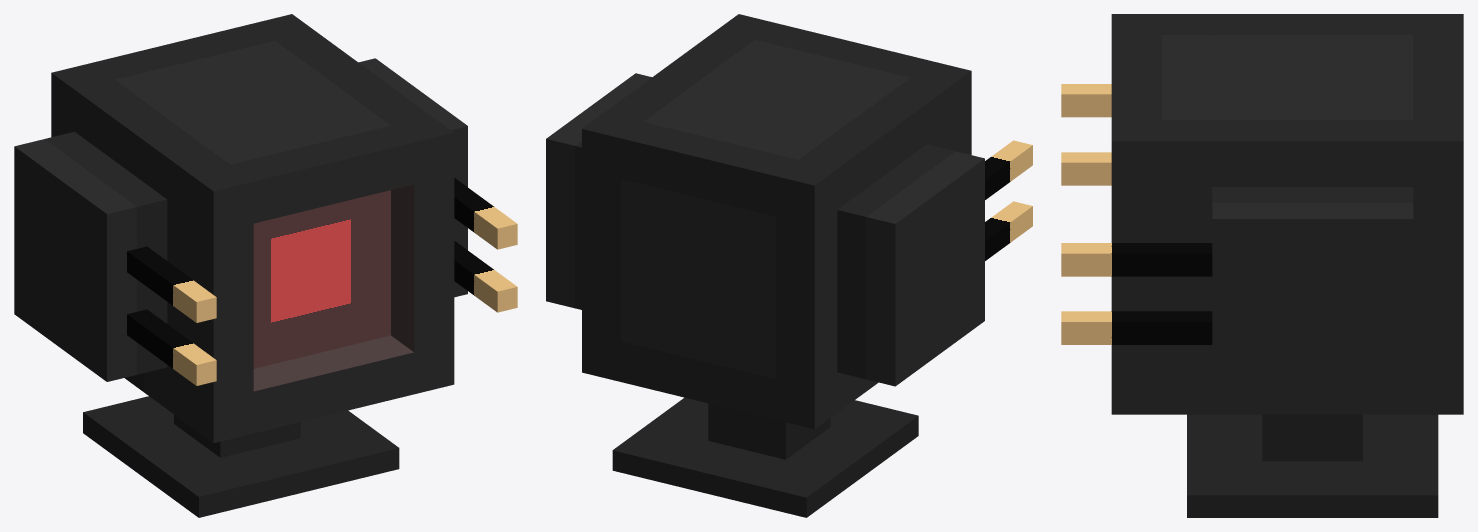
Rendered from Turret.obj.
The picture shows the model from 3 angles, left to right: view 1: azimuth 30°, elevation 25°; view 2: azimuth 150°, elevation 25°; view 3: azimuth 270°, elevation 25°; orthographic projection. The views are drawn at different scales.
Parts seen in each view (by area): view 1: Main Face, Plate R, Neck Base Plate, Gun R, Gun L, Plate L, Neck; view 2: Main Face, Plate R, Neck Base Plate, Plate L, Neck, Gun R; view 3: Main Face, Plate L, Neck Base Plate, Gun L, Neck, Gun R.
Boxes of the visible parts, x1,y1,x2,y2 form: Main Face: [51, 14, 454, 443]; Plate R: [14, 131, 167, 381]; Neck Base Plate: [83, 396, 399, 517]; Gun R: [127, 246, 216, 385]; Gun L: [454, 178, 517, 312]; Plate L: [358, 58, 467, 297]; Neck: [174, 414, 300, 457]; Main Face: [582, 14, 971, 429]; Plate R: [837, 144, 984, 386]; Neck Base Plate: [612, 397, 918, 517]; Plate L: [546, 73, 651, 309]; Neck: [708, 403, 830, 459]; Gun R: [985, 140, 1032, 260]; Main Face: [1111, 14, 1463, 414]; Plate L: [1212, 187, 1413, 400]; Neck Base Plate: [1187, 414, 1438, 517]; Gun L: [1061, 243, 1212, 344]; Neck: [1262, 414, 1362, 461]; Gun R: [1061, 84, 1111, 185].
Bounding box in the file's own units: 0.5625 × 0.5313 × 0.5.
Materials: 2 (2 with a texture image).
